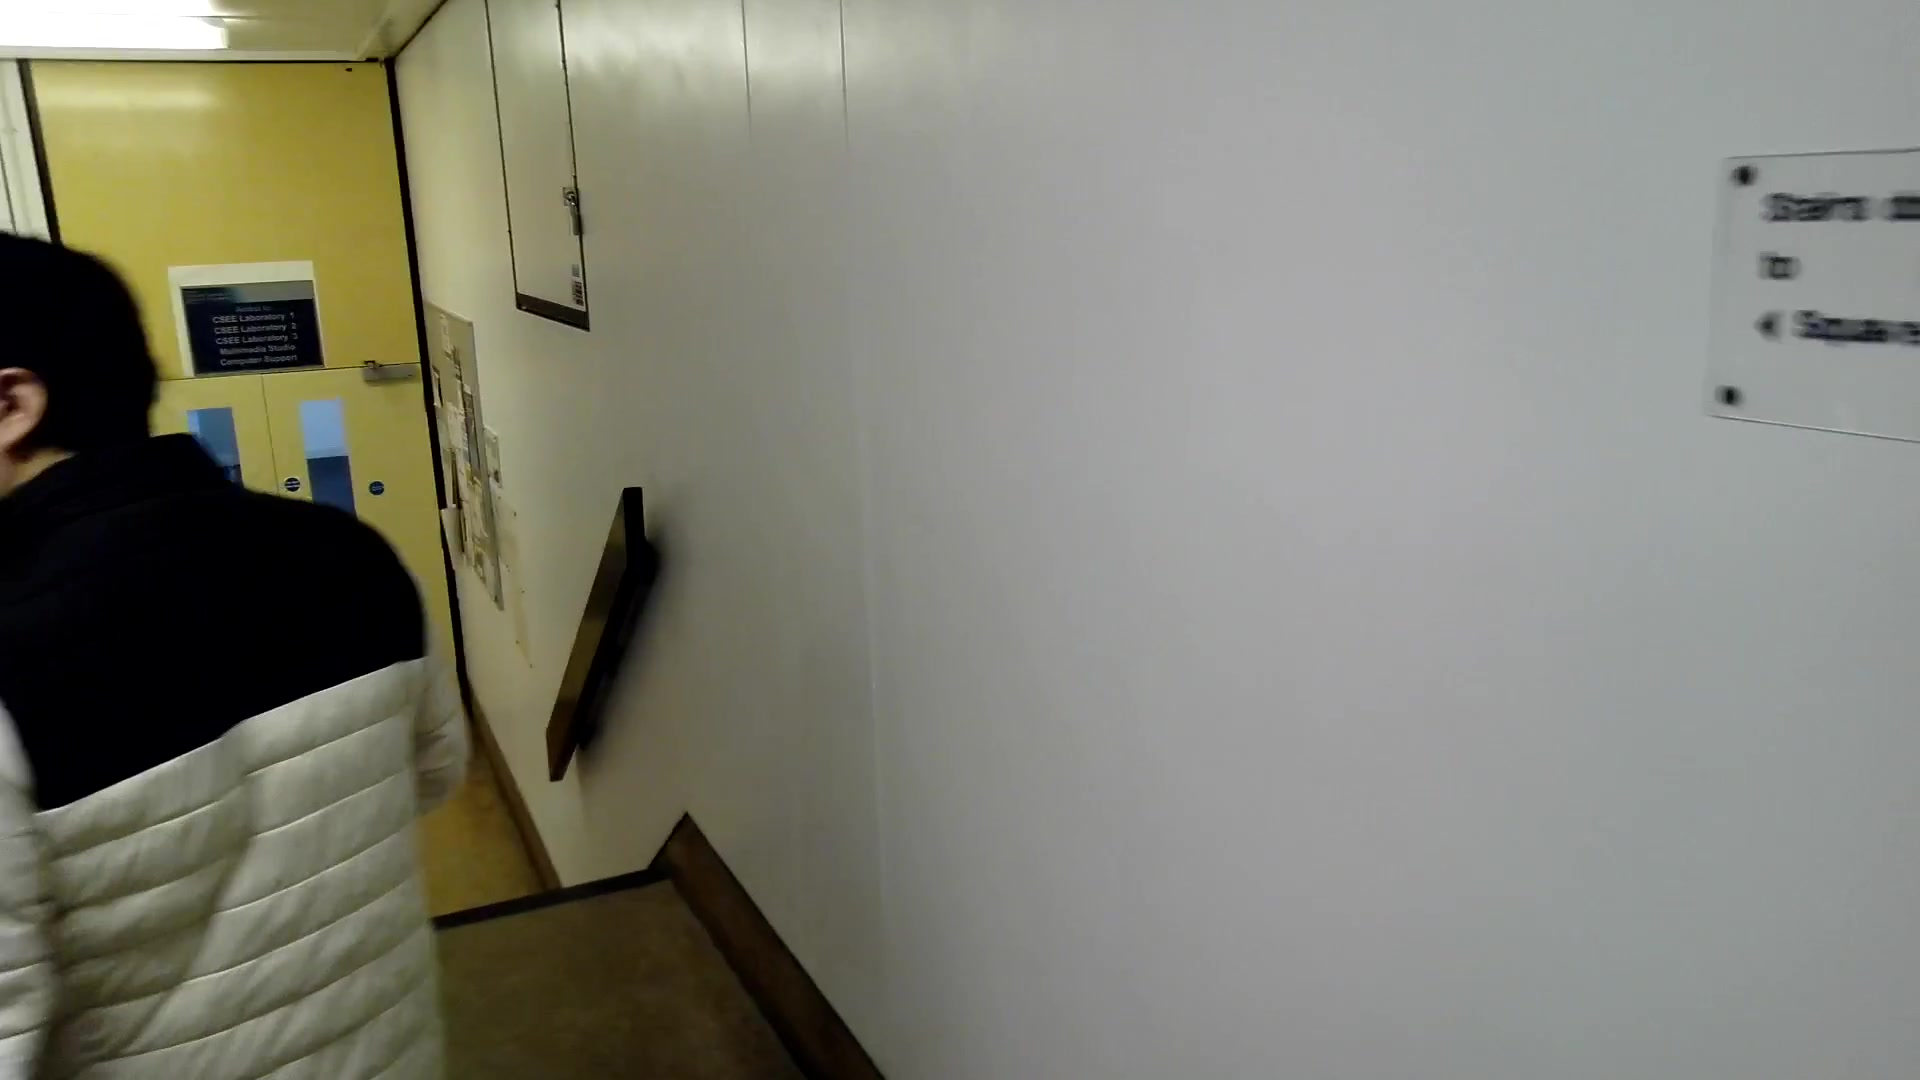Person: (4, 223, 452, 1080)
